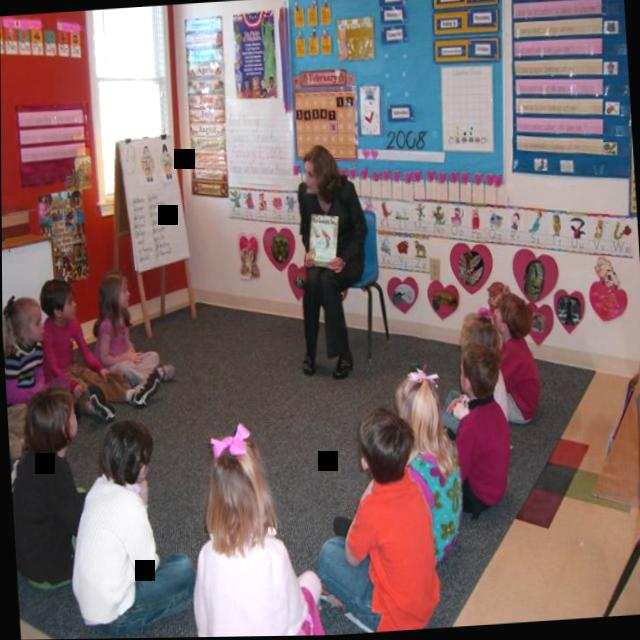NO-Mask: (26, 308, 46, 342), (301, 162, 318, 199), (60, 294, 78, 323), (68, 405, 79, 439), (118, 280, 131, 308), (458, 361, 467, 397), (493, 307, 503, 334)
